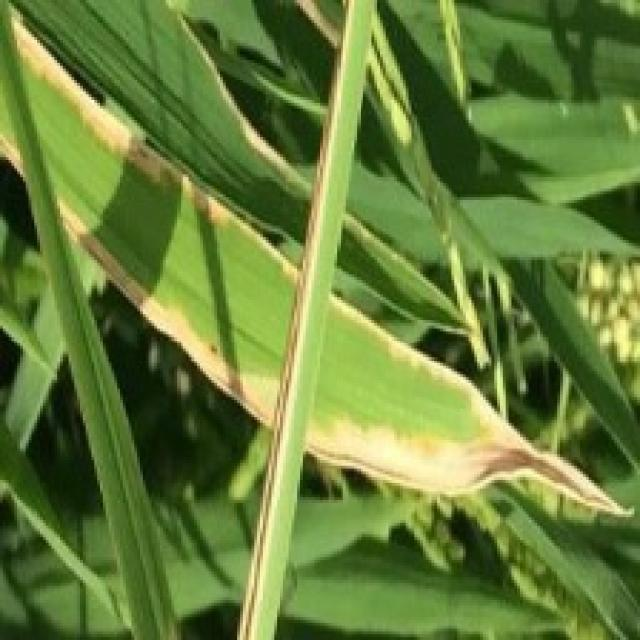Rice___Bacterial_Leaf_Blight: (0, 1, 635, 515)
